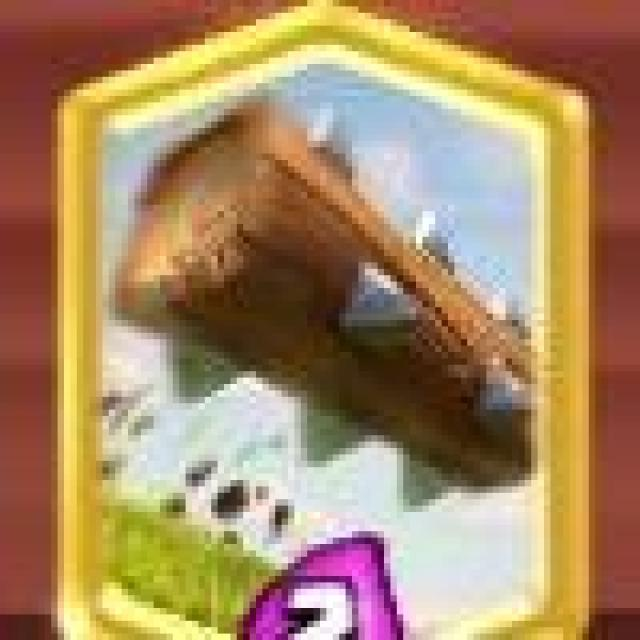Log: (67, 7, 584, 640)
